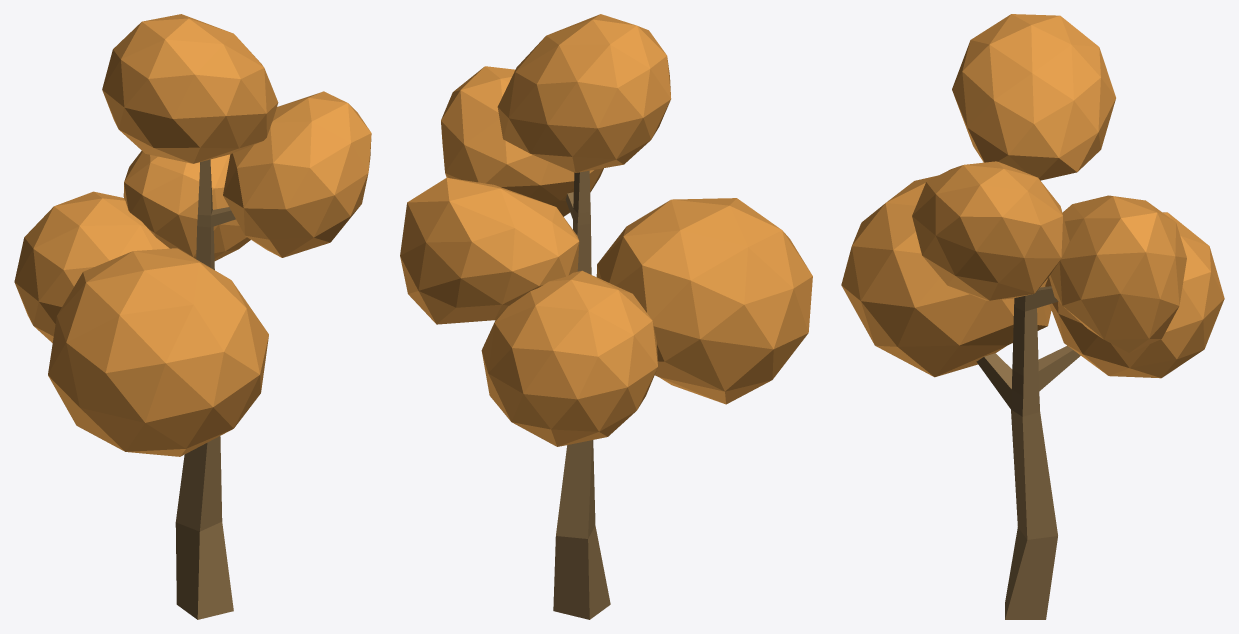
File: forest-oak-b-fall.glb
3 views of the same model, side by side, from view 1: azimuth 30°, elevation 25°; view 2: azimuth 150°, elevation 25°; view 3: azimuth 270°, elevation 25° (orthographic). The views are drawn at different scales.
Visible parts, largest first — view 1: OakTree2; view 2: OakTree2; view 3: OakTree2.
Part boxes in pixels (x1=…): OakTree2: x1=14, y1=14, x2=371, y2=619; OakTree2: x1=400, y1=14, x2=812, y2=619; OakTree2: x1=841, y1=14, x2=1224, y2=619.
Size of the model in its own units: 4.27 by 7.63 by 4.58.
